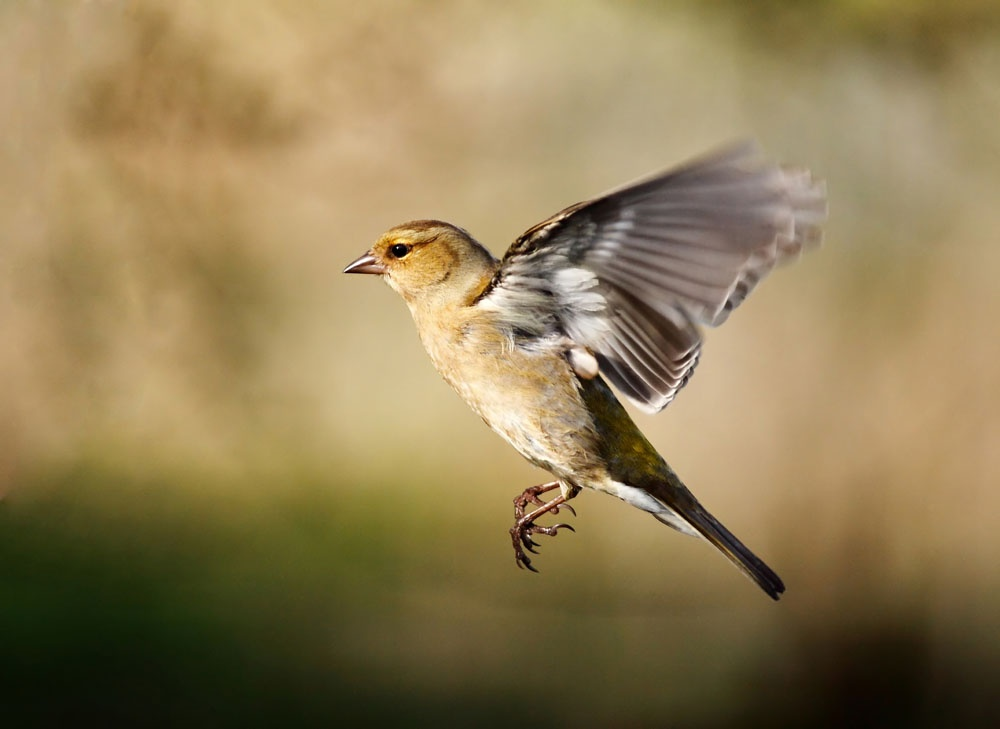bird: (348, 134, 836, 608)
